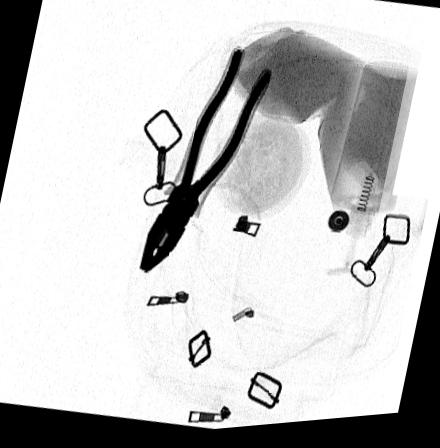Pliers: (139, 51, 273, 277)
